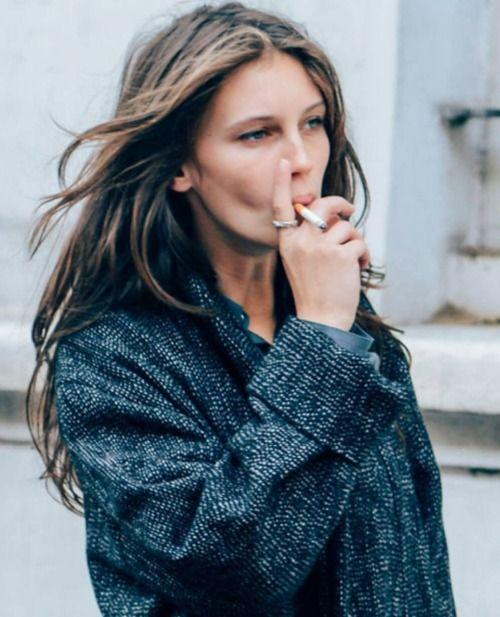cigarette: (293, 202, 327, 230)
